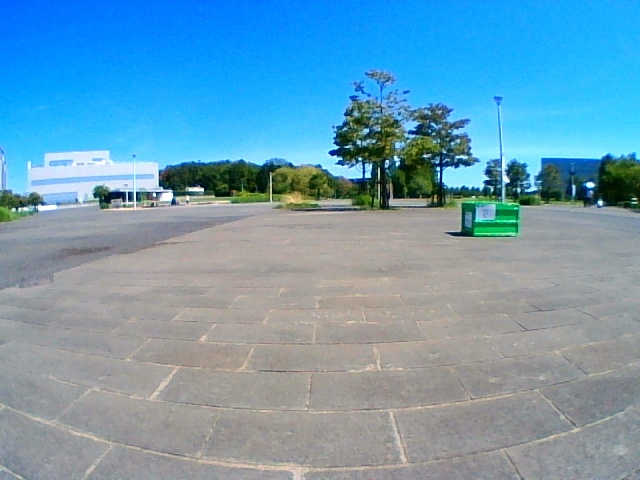green_box: (462, 202, 518, 237)
tag: (476, 205, 495, 220)
